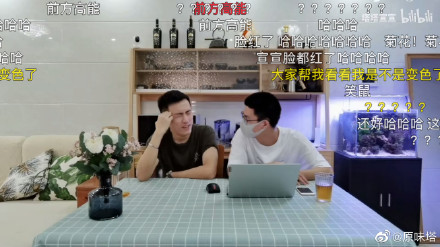correctlyWear: (239, 106, 270, 138)
noWear: (165, 104, 193, 137)
